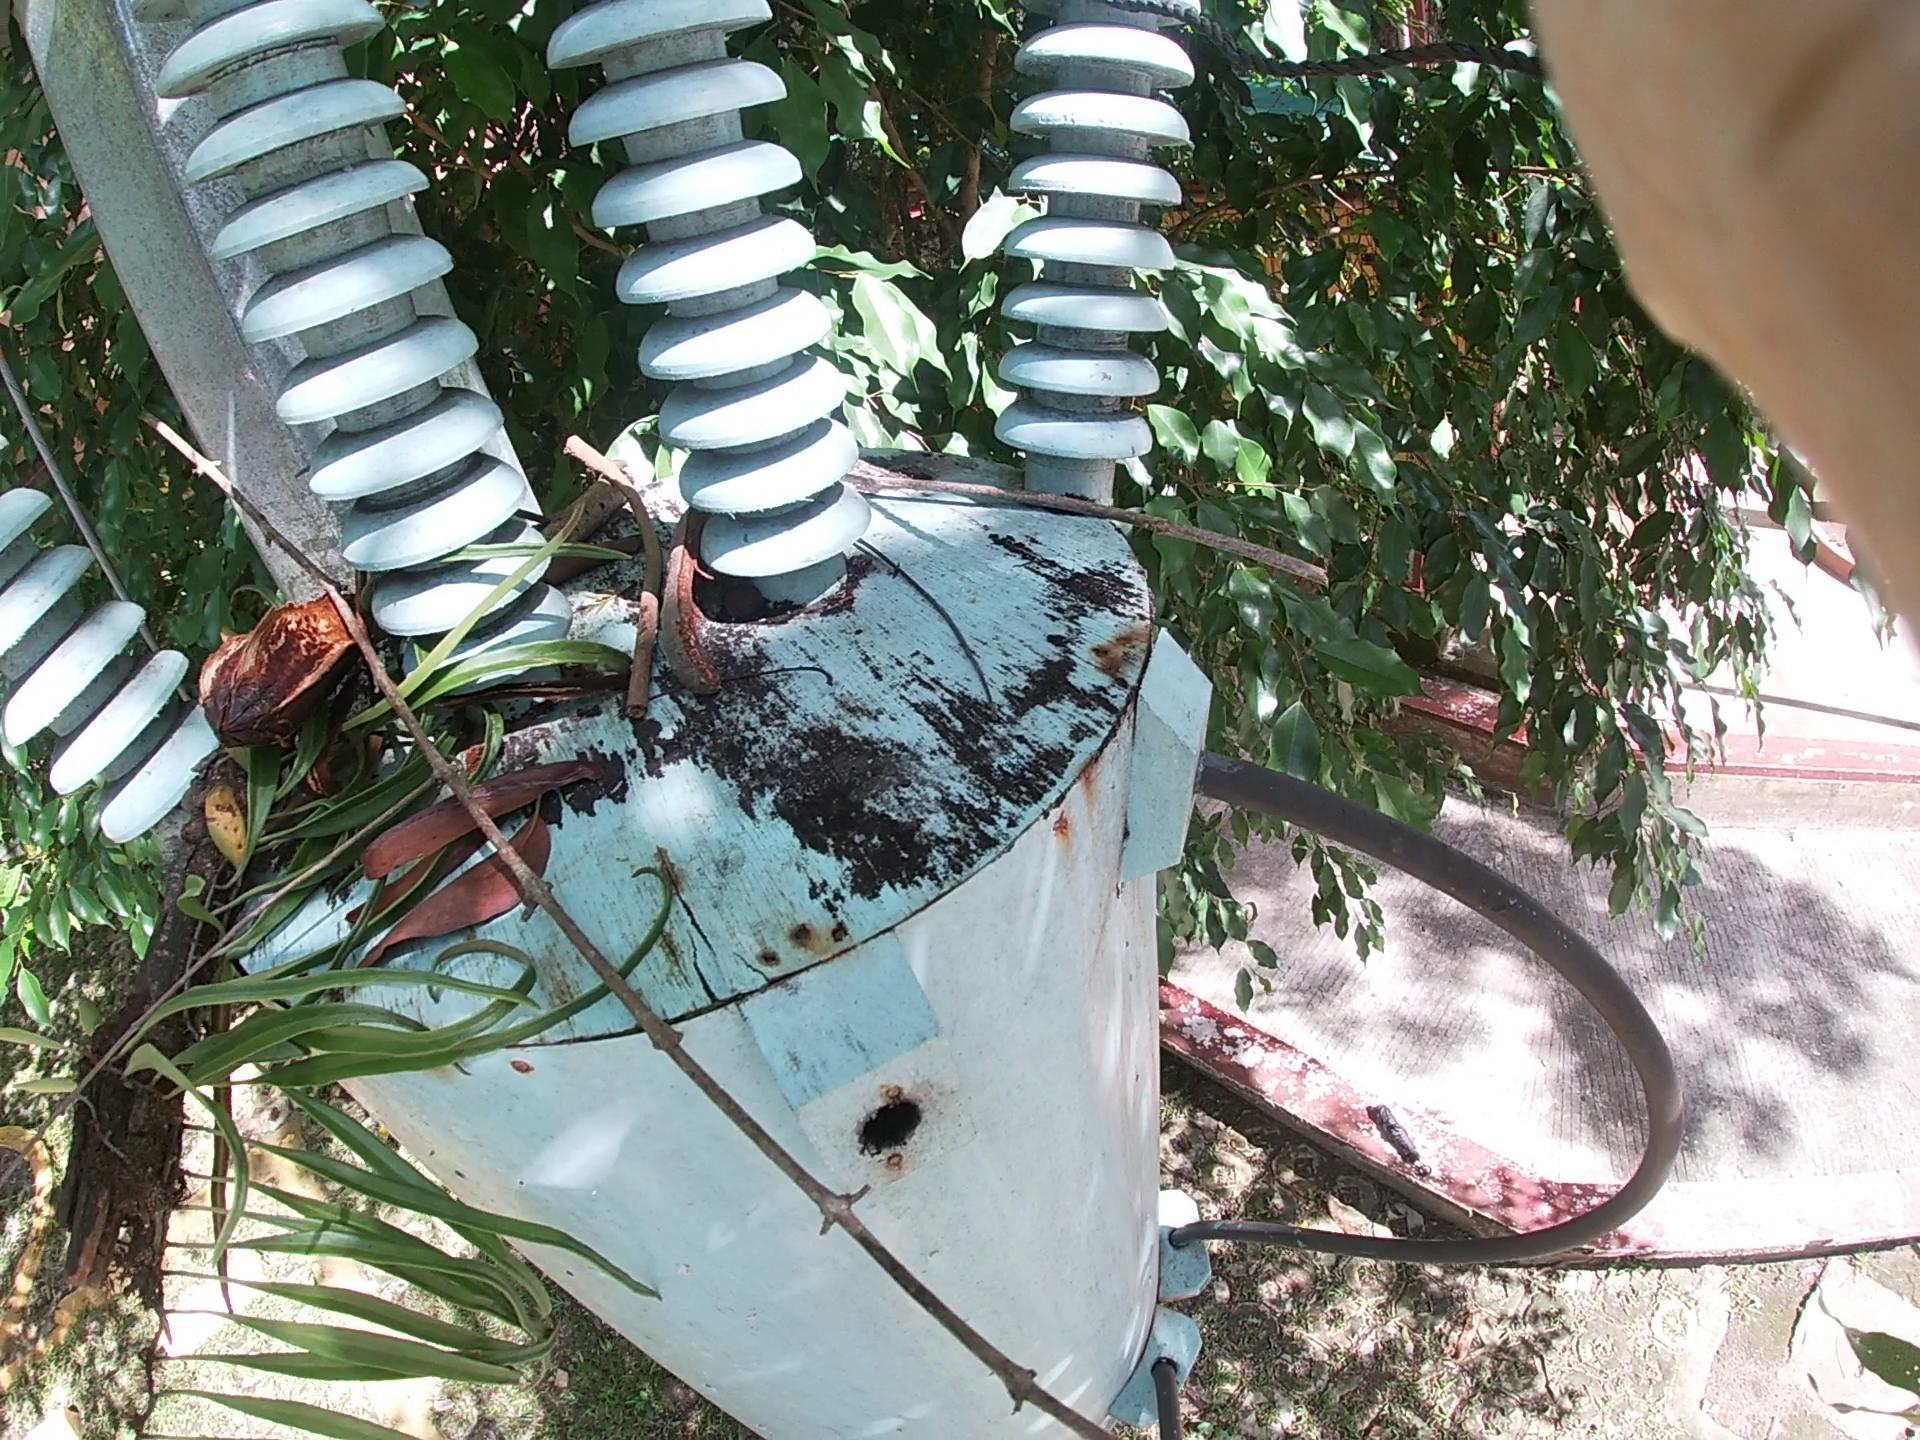branch with leaves: (59, 484, 508, 1345)
leaf: (330, 750, 614, 1038)
mahogany fruit: (552, 479, 779, 753), (203, 542, 352, 787)
tree branch: (190, 395, 1033, 1383), (726, 393, 1332, 584), (632, 424, 689, 771)
